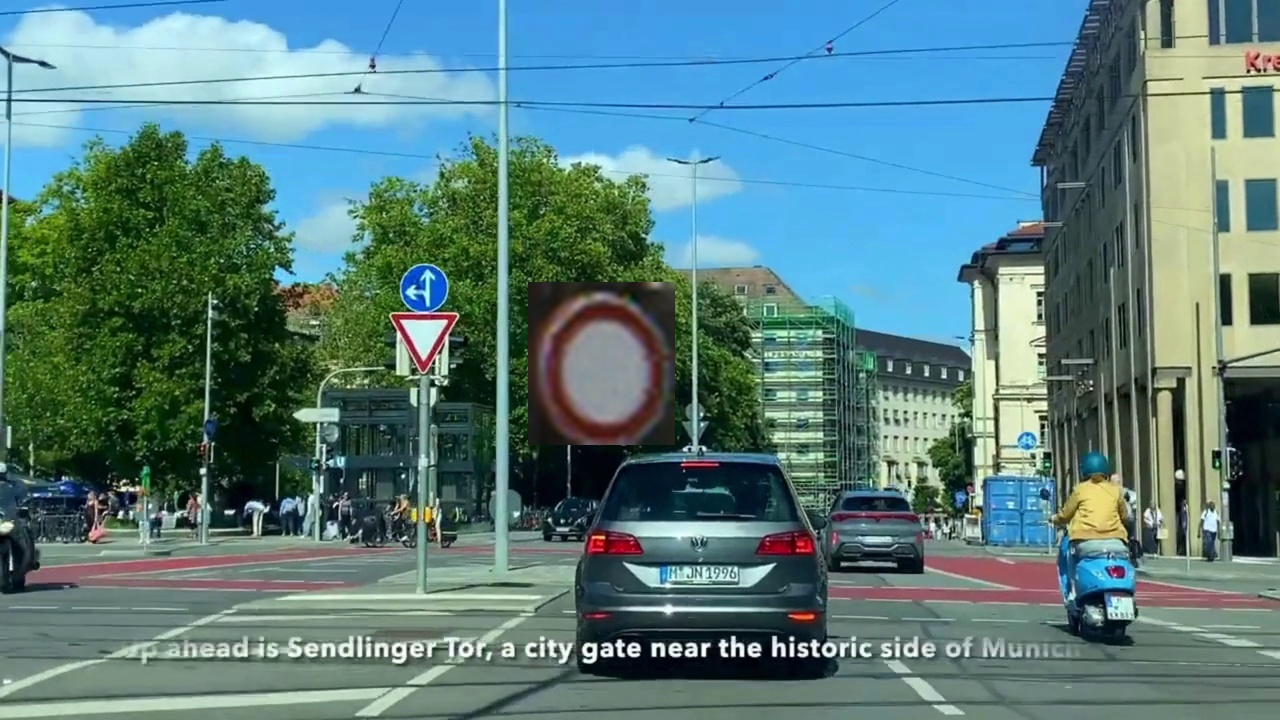No vehicles: (528, 282, 675, 445)
